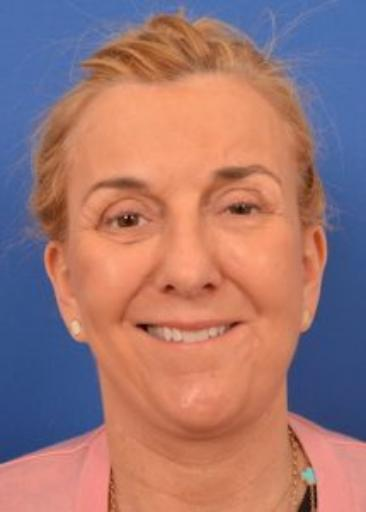left_eye: (218, 198, 264, 221)
left_lip_corner: (234, 315, 250, 330)
right_eye: (104, 211, 155, 232)
right_lip_corner: (130, 320, 143, 332)
